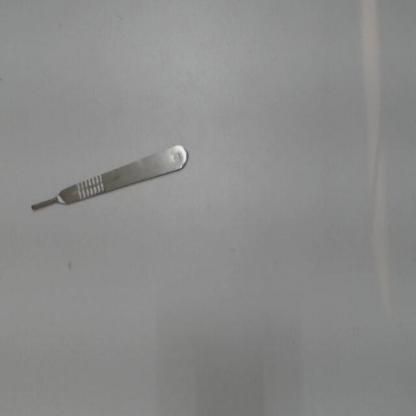No.3 BP Handle: (21, 122, 195, 224)
